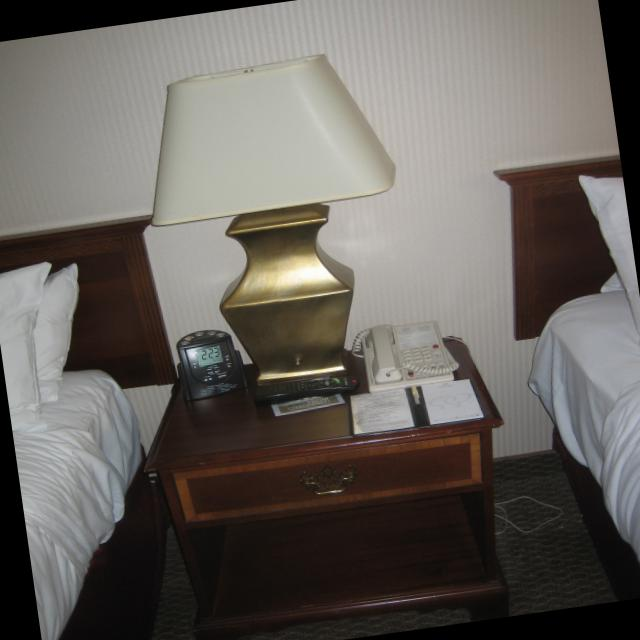alarm: (177, 329, 246, 404)
bed frame: (0, 219, 176, 640), (489, 157, 640, 598)
floor -X: (26, 440, 640, 640)
lamp crop: (154, 56, 397, 373)
lampshade: (152, 55, 397, 223)
night table crop: (147, 334, 510, 640)
phone charger: (352, 320, 461, 394)
remote control: (257, 376, 357, 404)
